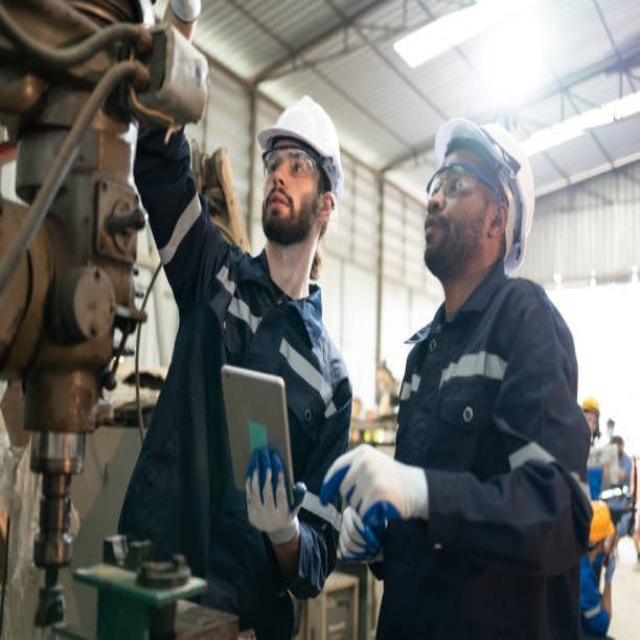Gafas: (422, 160, 500, 207), (260, 144, 319, 179)
Guantes: (321, 435, 430, 527), (242, 444, 302, 536), (332, 507, 380, 566)
Sin_mascara: (421, 213, 455, 256), (264, 191, 296, 224)
